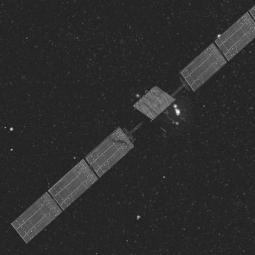smart_1: (100, 51, 210, 158)
